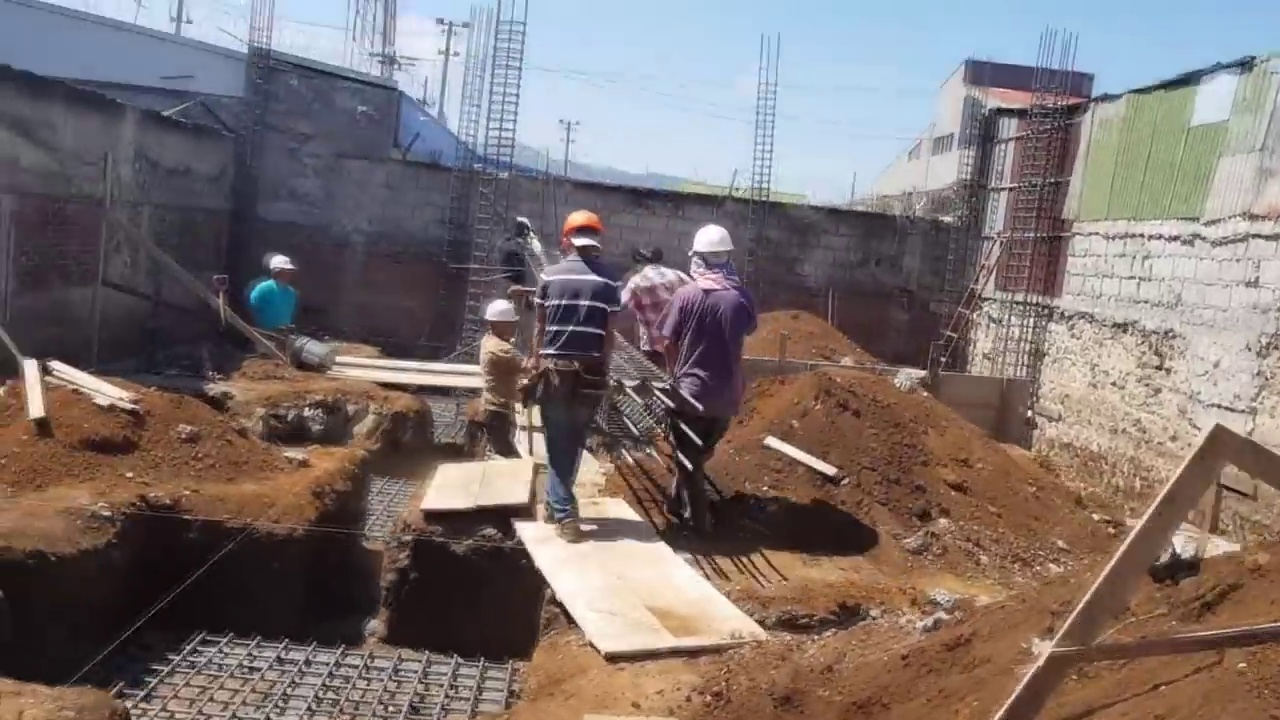helmet: (688, 224, 736, 258), (565, 206, 603, 242), (480, 295, 521, 326), (268, 254, 296, 270)
helmet-off: (624, 238, 668, 275), (510, 220, 531, 244)
helmet-on: (688, 223, 740, 284), (563, 207, 606, 261), (478, 295, 521, 348), (269, 255, 296, 290)
person: (655, 222, 758, 545), (530, 218, 628, 540), (464, 294, 532, 462), (618, 240, 690, 371), (250, 248, 297, 335), (500, 217, 531, 308)
